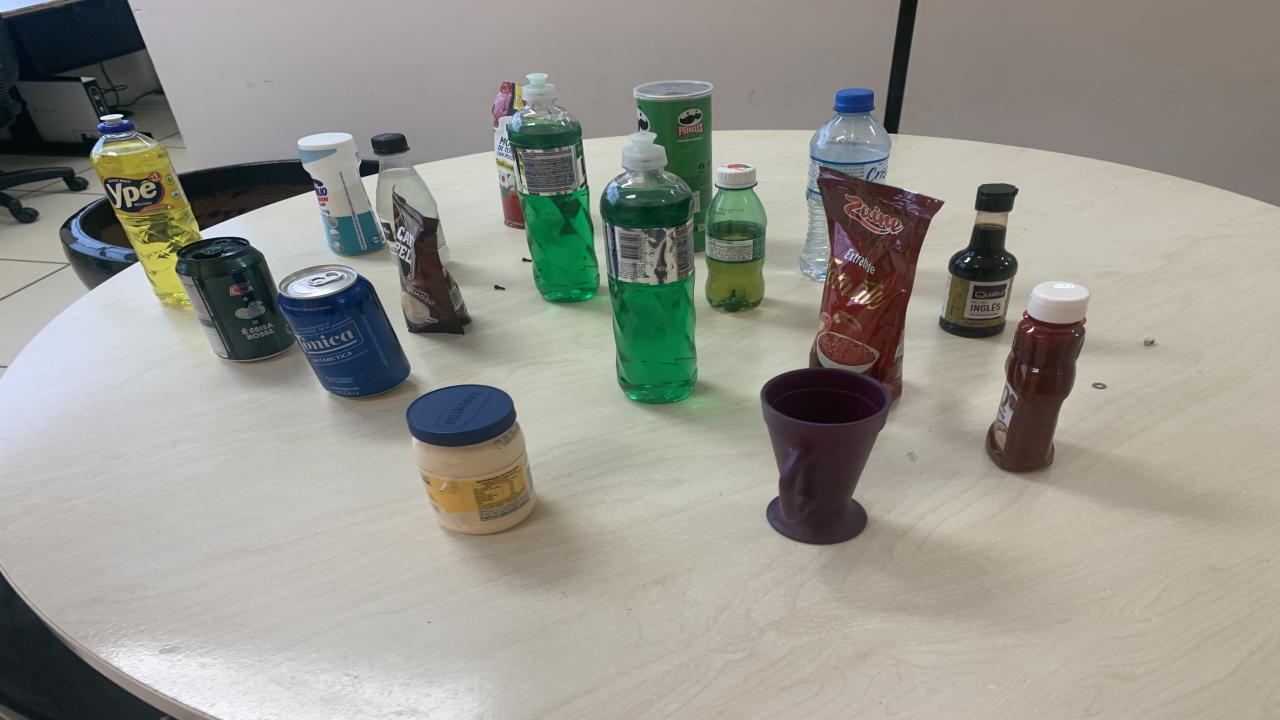Cleaner-Cleanup_Items: (298, 133, 385, 255)
Coffee-Pantry_Items: (392, 193, 470, 334)
Detergent-Cleanup_Items: (600, 131, 698, 403), (90, 114, 200, 306), (508, 73, 600, 302)
English_Sauce-Pantry_Items: (940, 184, 1018, 338)
Guarana-Drinks: (705, 163, 768, 311)
Guarana_Can-Drinks: (175, 236, 295, 362)
Ketchup-Pantry_Items: (985, 281, 1090, 472)
Mayonnaise-Pantry_Items: (405, 384, 535, 534)
Pringles-Snacks: (632, 81, 712, 249)
Soda-Drinks: (370, 133, 440, 262), (438, 225, 450, 264)
Tomato_Sauce-Pantry_Items: (810, 167, 942, 398), (492, 81, 525, 229)
Tonic-Drinks: (278, 264, 410, 398)
Water_Bottle-Drinks: (800, 88, 890, 281)
